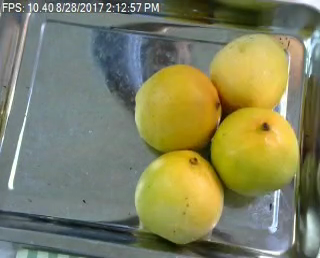Mango: (135, 149, 224, 243), (212, 107, 298, 195), (133, 63, 219, 149), (209, 31, 289, 113)
